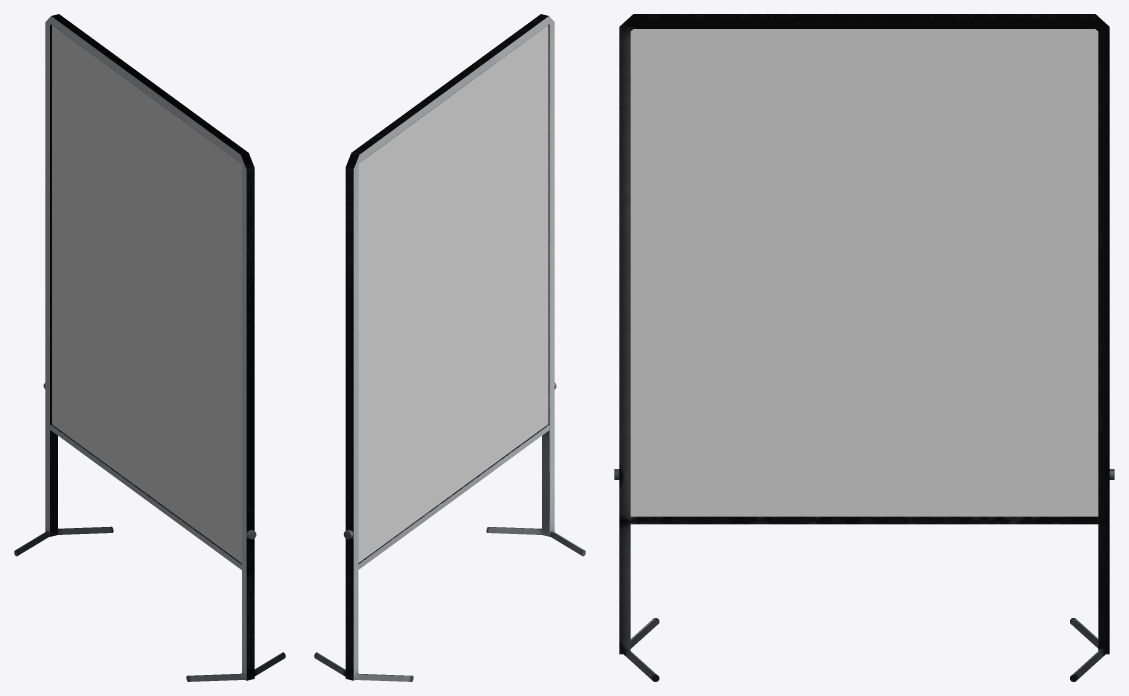
Rendered from metaplanwand.glb.
3 views of the same model, side by side, from view 1: azimuth 30°, elevation 25°; view 2: azimuth 150°, elevation 25°; view 3: azimuth 270°, elevation 25° (orthographic). The views are drawn at different scales.
Visible parts, largest first — view 1: metaplanwand-white; view 2: metaplanwand-white; view 3: metaplanwand-white.
Boxes of the visible parts, bbox=[...] form: metaplanwand-white: bbox=[14, 14, 285, 681]; metaplanwand-white: bbox=[314, 14, 585, 681]; metaplanwand-white: bbox=[614, 14, 1114, 681].
Size of the model in its own units: 9.2 by 47.34 by 33.72.
Materials: 1 (1 with a texture image).
